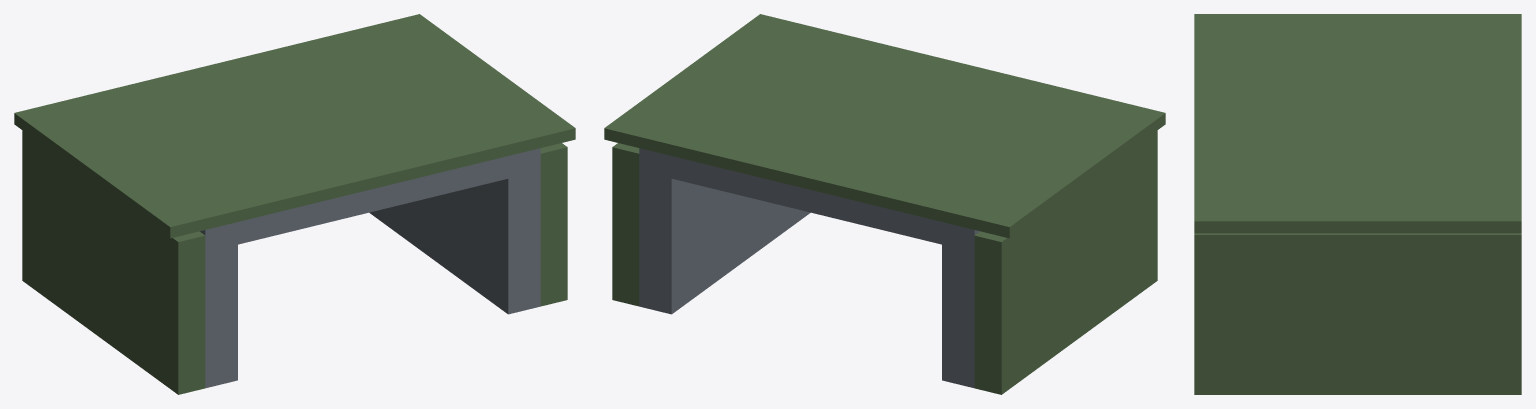
File: tunnel-section.glb
3 renders of one model, left to right at view 1: azimuth 30°, elevation 25°; view 2: azimuth 150°, elevation 25°; view 3: azimuth 270°, elevation 25°, orthographic. The views are drawn at different scales.
Parts seen in each view (by area): view 1: tunnel-section; view 2: tunnel-section; view 3: tunnel-section.
Part boxes in pixels (x1,y1,x2,y2): tunnel-section: (14, 14, 575, 394); tunnel-section: (604, 14, 1165, 394); tunnel-section: (1194, 14, 1521, 394).
Size of the model in its own units: 15 by 6 by 10.
